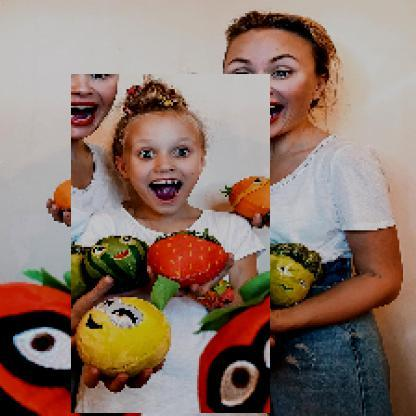child: (72, 75, 272, 415)
